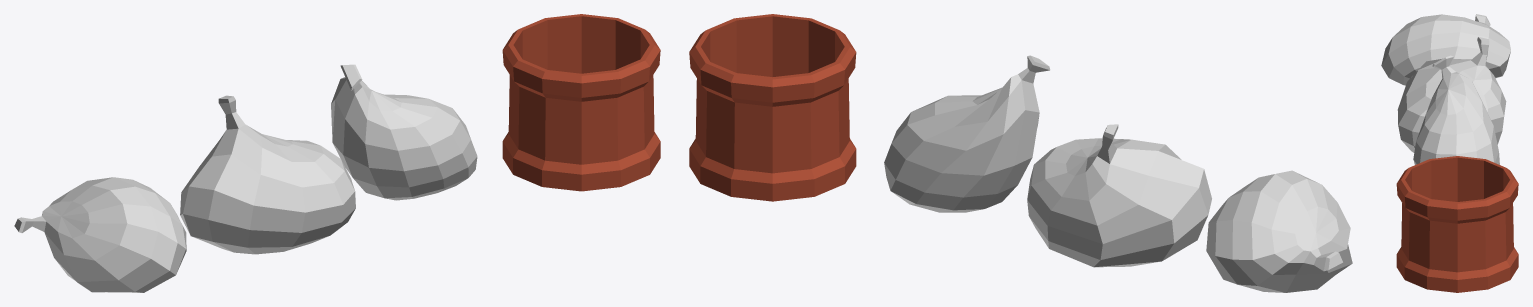
Rendered from trashcan_and_trash.fbx.
3 views of the same model, side by side, from view 1: azimuth 30°, elevation 25°; view 2: azimuth 150°, elevation 25°; view 3: azimuth 270°, elevation 25° (orthographic). The views are drawn at different scales.
Visible parts, largest first — view 1: trashcan, trash2, trash3, trash1; view 2: trashcan, trash2, trash1, trash3; view 3: trashcan, trash1, trash3, trash2.
Part boxes in pixels (bbox=[...]): trashcan: bbox=[502, 14, 660, 191]; trash2: bbox=[180, 95, 355, 254]; trash3: bbox=[14, 177, 186, 292]; trash1: bbox=[331, 64, 477, 200]; trashcan: bbox=[689, 14, 856, 201]; trash2: bbox=[1027, 124, 1211, 267]; trash1: bbox=[884, 55, 1050, 212]; trash3: bbox=[1206, 170, 1352, 292]; trashcan: bbox=[1396, 156, 1518, 292]; trash1: bbox=[1413, 55, 1499, 164]; trash3: bbox=[1381, 14, 1510, 85]; trash2: bbox=[1397, 36, 1506, 152].
Bounding box in the file's own units: 172 × 43.09 × 42.76.
